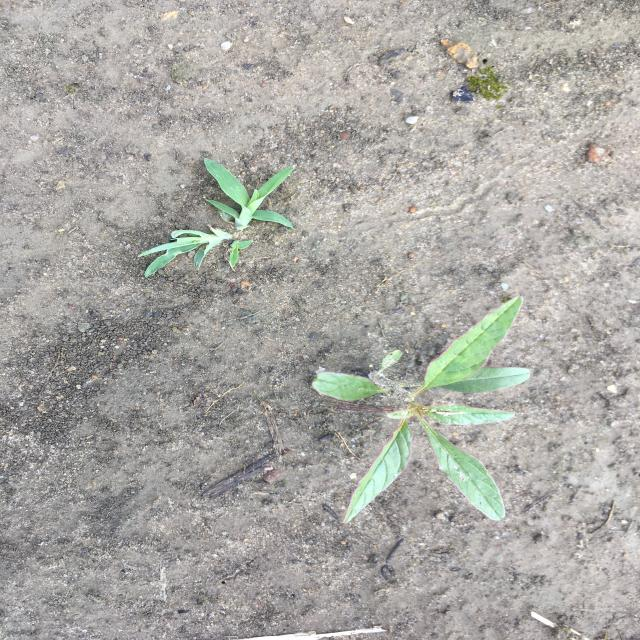Goosegrass: (133, 154, 301, 279)
Waterhemp: (309, 291, 537, 528)
